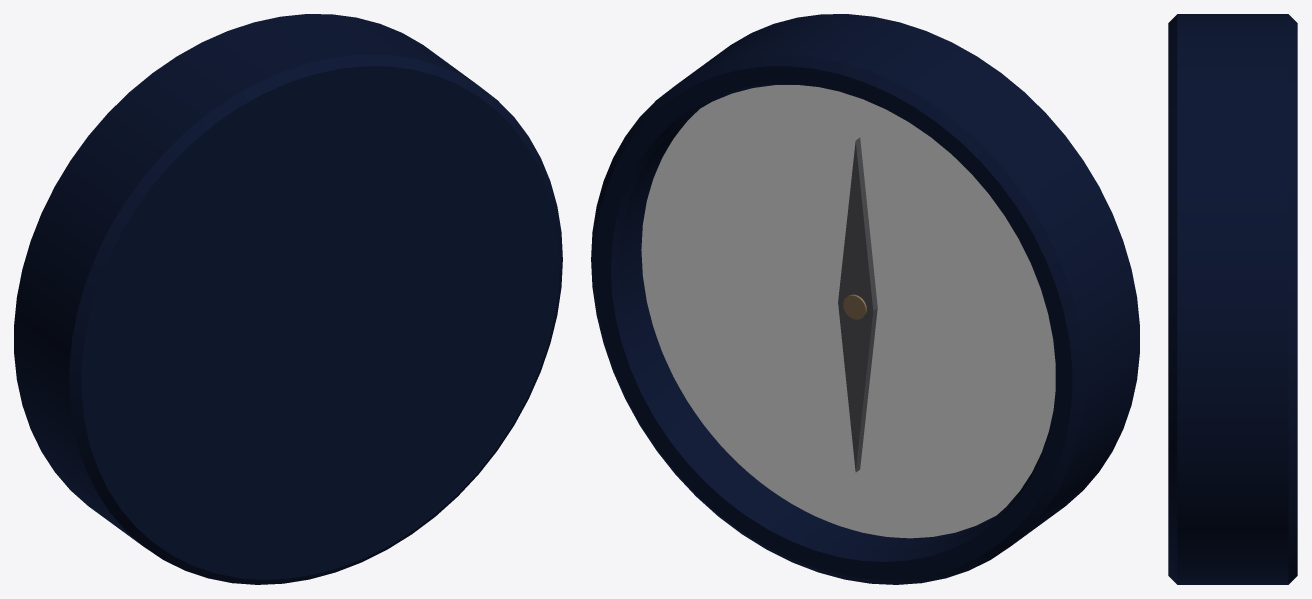
The picture shows the model from 3 angles, left to right: view 1: azimuth 30°, elevation 25°; view 2: azimuth 150°, elevation 25°; view 3: azimuth 270°, elevation 25°; orthographic projection.
Parts seen in each view (by area): view 1: case; view 2: face, case, pointer; view 3: case.
Part boxes in pixels (x1,y1,x2,y2): case: [14, 14, 562, 584]; face: [641, 85, 1055, 538]; case: [591, 14, 1139, 584]; pointer: [838, 137, 877, 472]; case: [1168, 14, 1297, 584].
Size of the model in its own units: 0.0699 by 0.07 by 0.0158.
